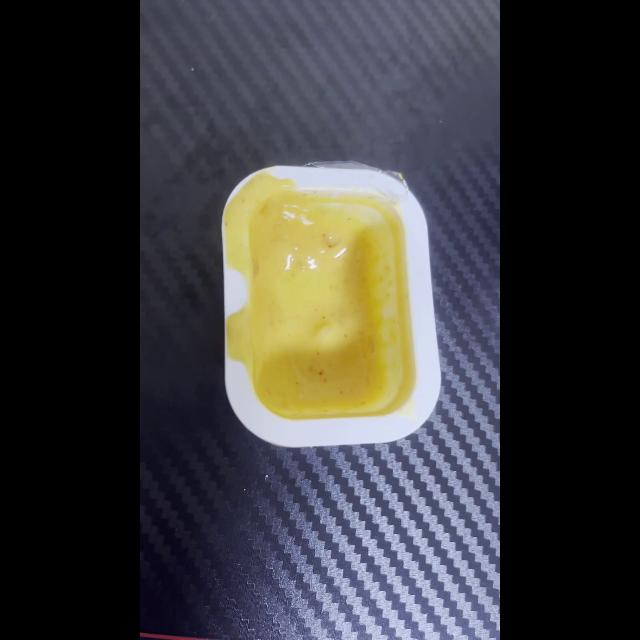dirty: (222, 166, 440, 444)
